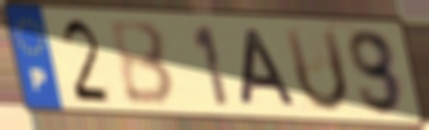1: (192, 23, 234, 110)
2: (60, 17, 114, 106)
9: (344, 27, 408, 119)
A: (238, 27, 300, 110)
B: (106, 19, 179, 109)
U: (281, 25, 352, 116)
